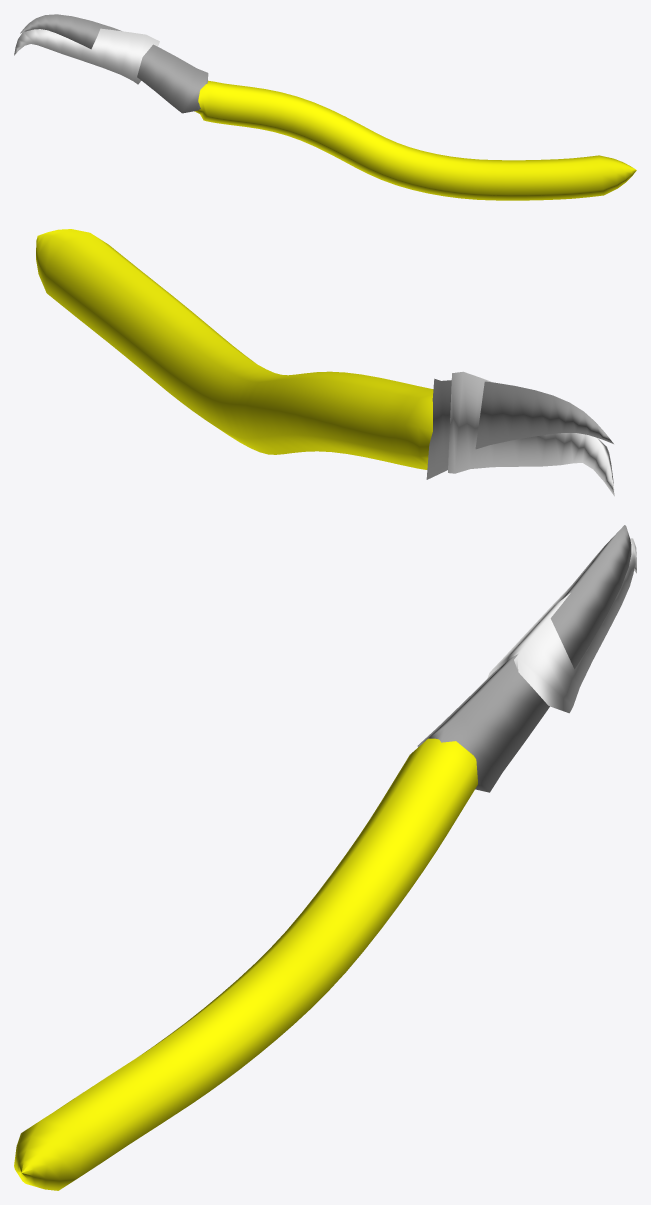
The model's file is cutters_bottom.glb.
3 views of the same model, one above another, from view 1: azimuth 30°, elevation 25°; view 2: azimuth 150°, elevation 25°; view 3: azimuth 270°, elevation 25° (orthographic). The views are drawn at different scales.
Parts seen in each view (by area): view 1: RGBA(1.000, 0.984, 0.000, 1.000):ButtonWhite (Instance) (Ins, RGBA(0.373, 0.373, 0.373, 1.000):Spikes_16 (Instance) (Insta, RGBA(0.922, 0.922, 0.922, 1.000):Spikes_16 (Instance) (Insta; view 2: RGBA(1.000, 0.984, 0.000, 1.000):ButtonWhite (Instance) (Ins, RGBA(0.373, 0.373, 0.373, 1.000):Spikes_16 (Instance) (Insta, RGBA(0.922, 0.922, 0.922, 1.000):Spikes_16 (Instance) (Insta; view 3: RGBA(1.000, 0.984, 0.000, 1.000):ButtonWhite (Instance) (Ins, RGBA(0.373, 0.373, 0.373, 1.000):Spikes_16 (Instance) (Insta, RGBA(0.922, 0.922, 0.922, 1.000):Spikes_16 (Instance) (Insta.
Boxes of the visible parts, x1,y1,x2,y2 form: RGBA(1.000, 0.984, 0.000, 1.000):ButtonWhite (Instance) (Ins: (194, 80, 636, 200); RGBA(0.373, 0.373, 0.373, 1.000):Spikes_16 (Instance) (Insta: (20, 14, 208, 113); RGBA(0.922, 0.922, 0.922, 1.000):Spikes_16 (Instance) (Insta: (14, 28, 159, 84); RGBA(1.000, 0.984, 0.000, 1.000):ButtonWhite (Instance) (Ins: (36, 229, 433, 469); RGBA(0.373, 0.373, 0.373, 1.000):Spikes_16 (Instance) (Insta: (426, 378, 613, 479); RGBA(0.922, 0.922, 0.922, 1.000):Spikes_16 (Instance) (Insta: (448, 371, 614, 496); RGBA(1.000, 0.984, 0.000, 1.000):ButtonWhite (Instance) (Ins: (14, 738, 477, 1190); RGBA(0.373, 0.373, 0.373, 1.000):Spikes_16 (Instance) (Insta: (417, 525, 631, 792); RGBA(0.922, 0.922, 0.922, 1.000):Spikes_16 (Instance) (Insta: (487, 538, 636, 713).
Size of what is drawn, in the model's own units: 0.1692 by 0.0591 by 0.1088.
